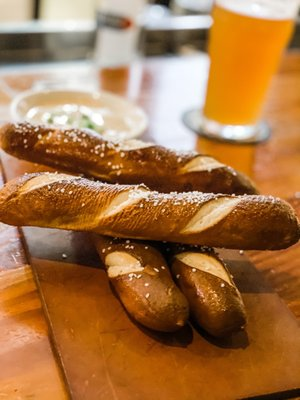pizza: (186, 0, 299, 144), (131, 2, 214, 147)
